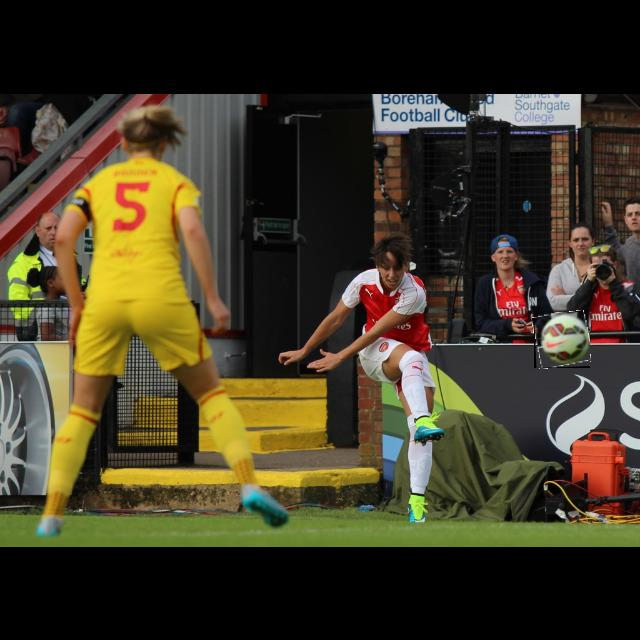Football: (534, 312, 590, 368)
